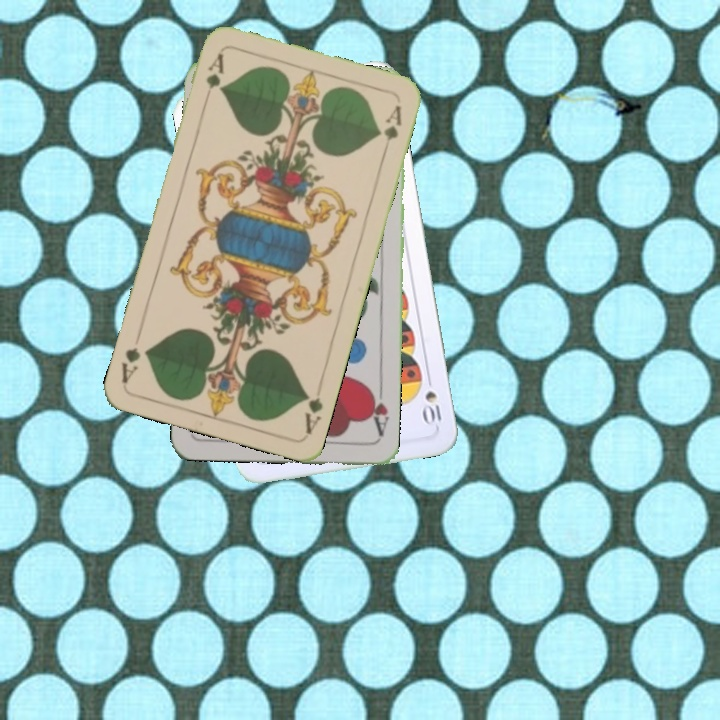GA: (299, 388, 325, 437), (201, 49, 227, 93)
HA: (364, 381, 391, 439)
S10: (420, 387, 444, 429)
